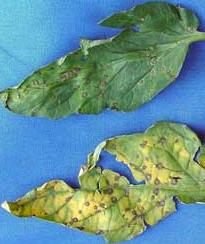Tomato Septoria leaf spot: (0, 0, 205, 131), (0, 113, 205, 244)
